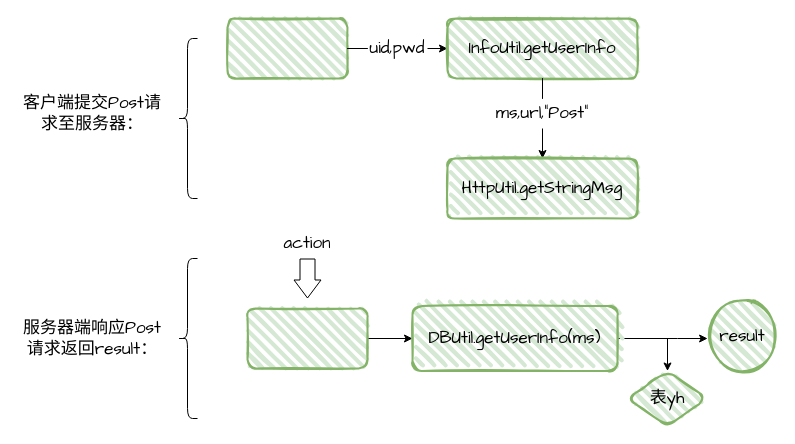
Image size: 795x444. Some labels were removed from this diagram. The box of each missing label's shape, as (x1, y1, x2, y2) in pixels:
cSAndrpid: (246, 307, 368, 369)
LoginActivity: (226, 17, 348, 79)
